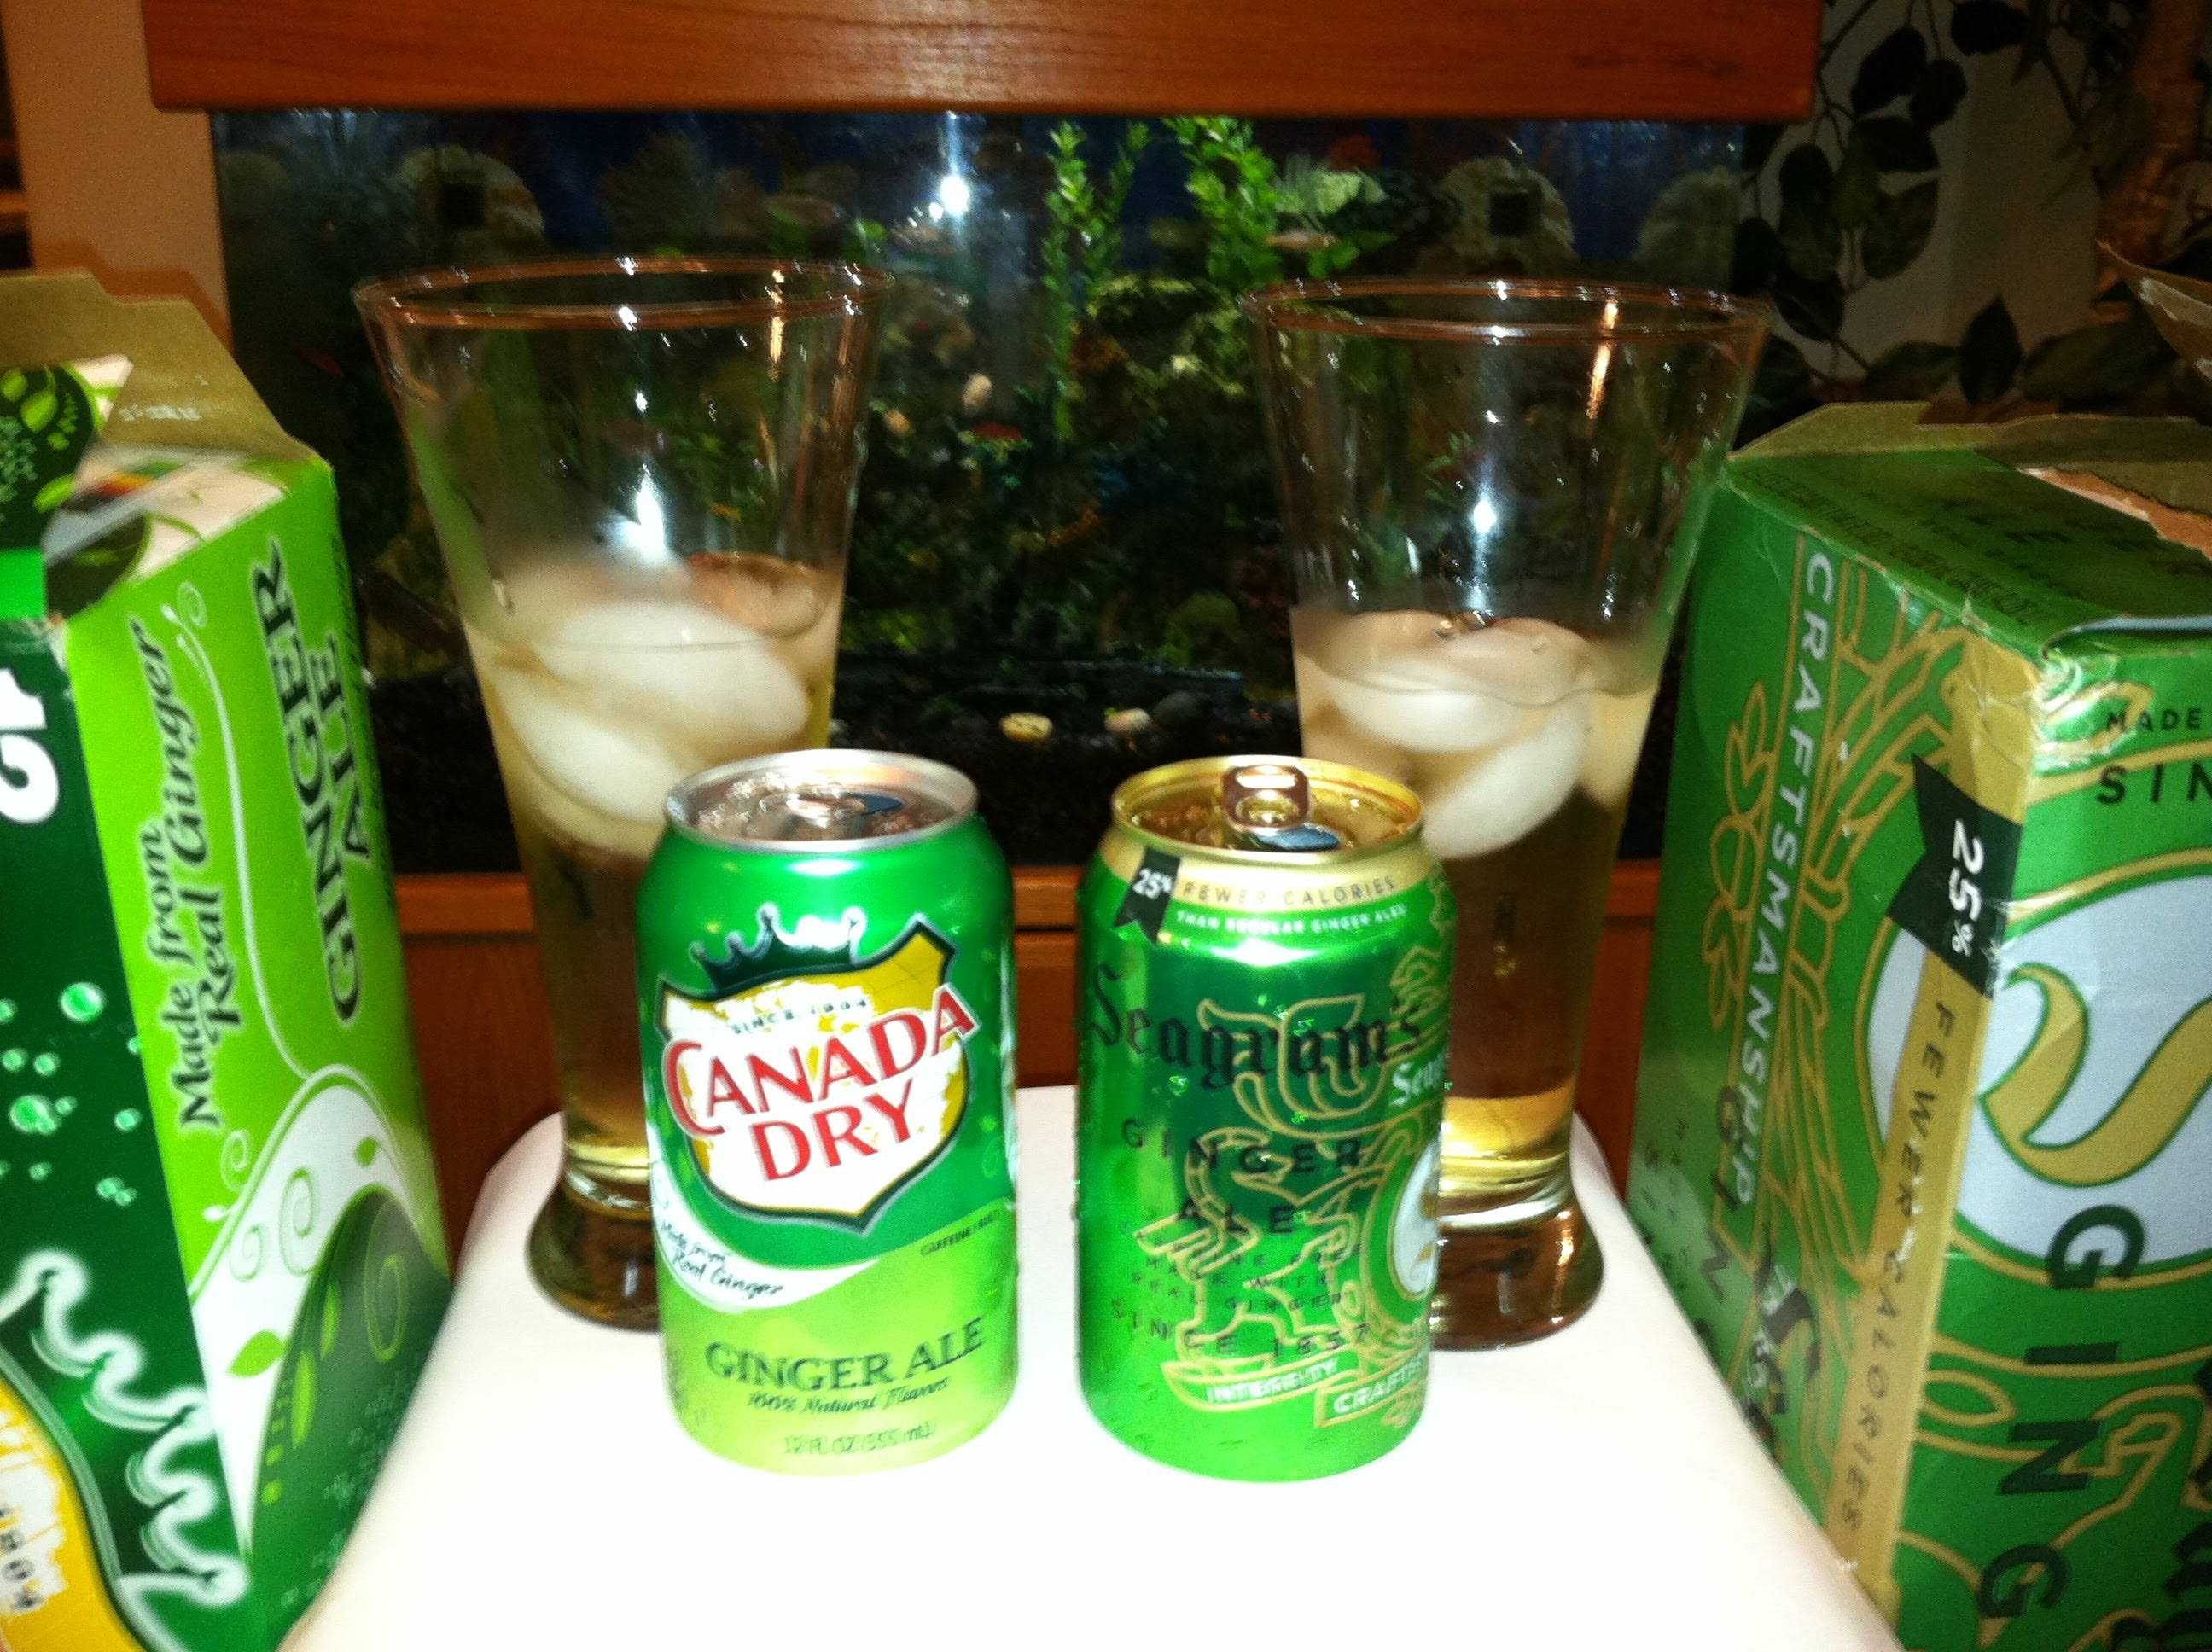Lata: (611, 731, 1027, 1484)
